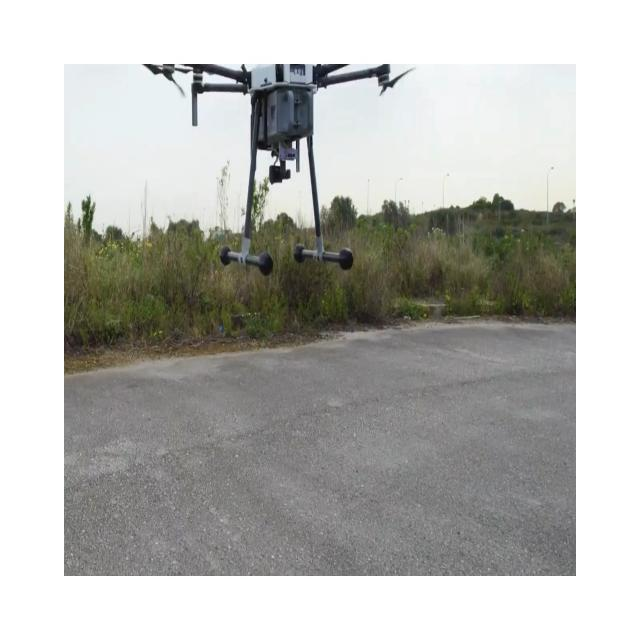drone: (141, 59, 417, 276)
